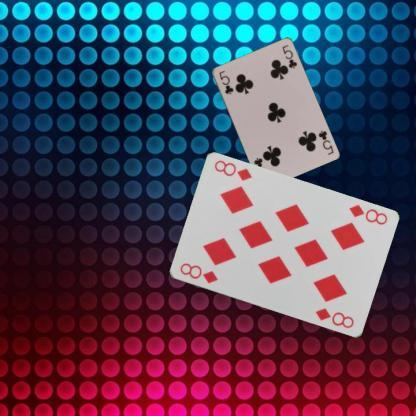5c: (216, 67, 235, 96), (316, 128, 334, 156)
8d: (177, 260, 219, 285), (346, 202, 388, 227)
